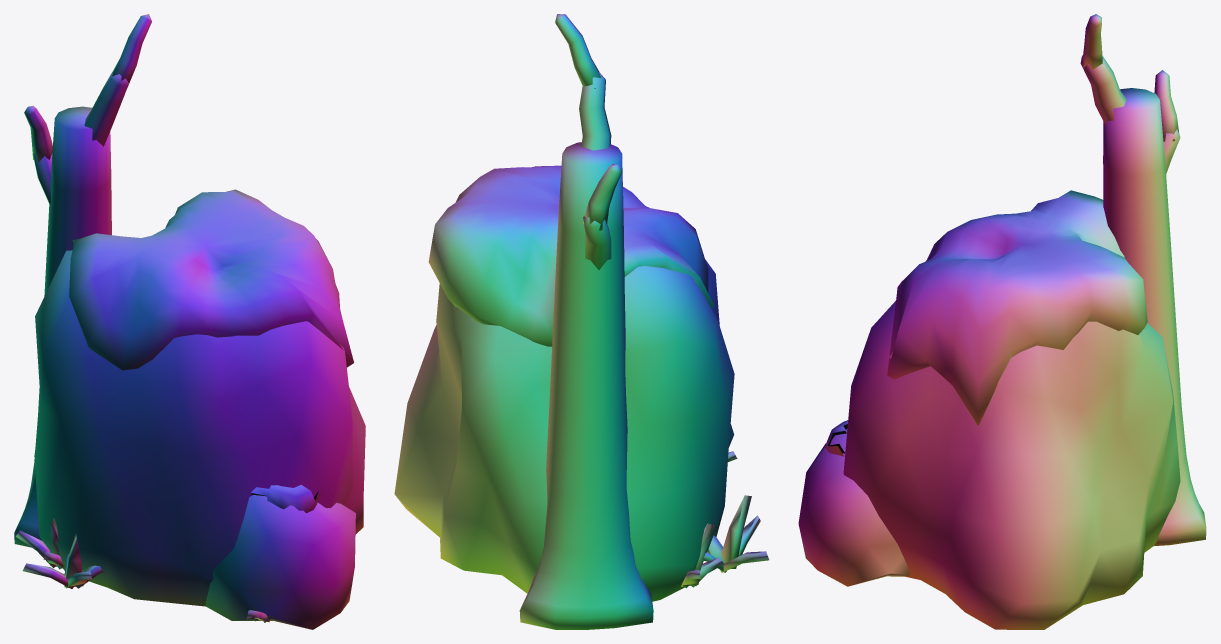
File: SM_Outcrop_March_V2.fbx
3 views of the same model, side by side, from view 1: azimuth 30°, elevation 25°; view 2: azimuth 150°, elevation 25°; view 3: azimuth 270°, elevation 25° (orthographic). The views are drawn at different scales.
Visible parts, largest first — view 1: SM_Outcrop_March_V2; view 2: SM_Outcrop_March_V2; view 3: SM_Outcrop_March_V2.
Part boxes in pixels (x1,y1,x2,y2): SM_Outcrop_March_V2: (14,14,365,629); SM_Outcrop_March_V2: (394,14,769,629); SM_Outcrop_March_V2: (798,14,1206,629).
Bounding box in the file's own units: 1.54 × 2.26 × 1.57.
